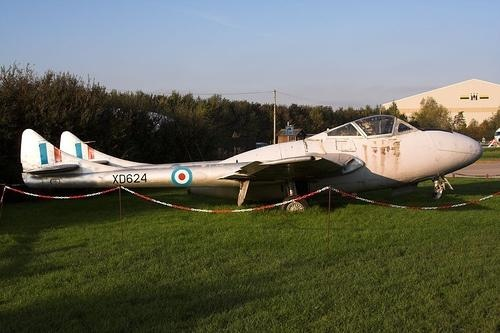aeroplane: (20, 116, 484, 212)
